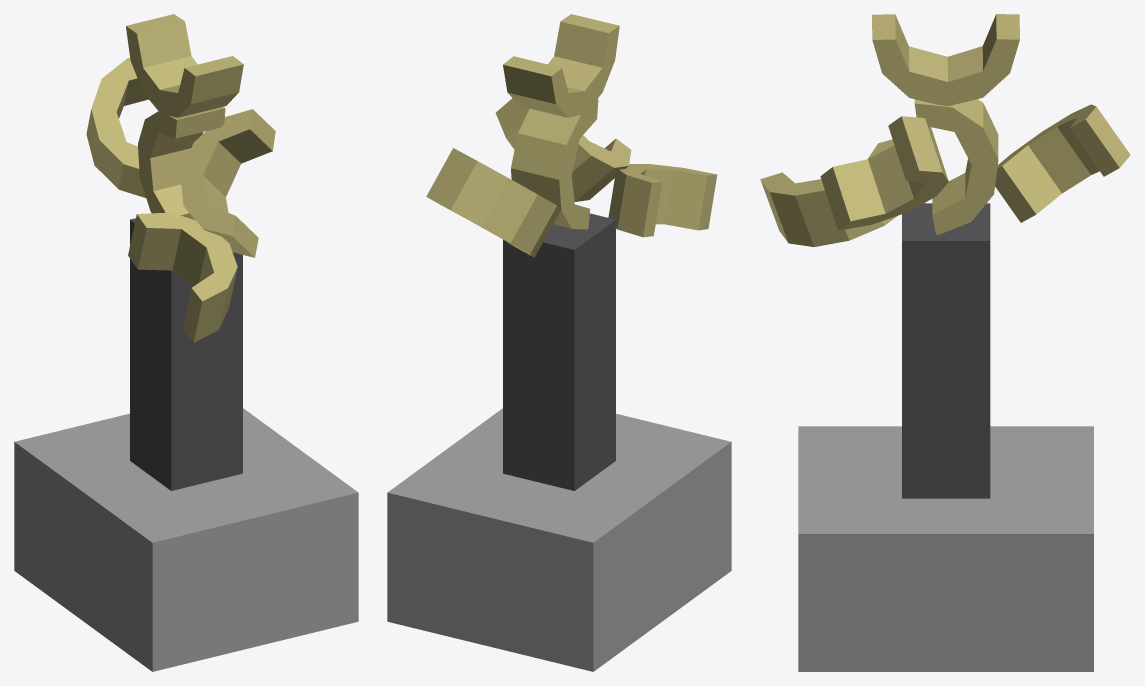
Rendered from Escultura1.fbx.
The picture shows the model from 3 angles, left to right: view 1: azimuth 30°, elevation 25°; view 2: azimuth 150°, elevation 25°; view 3: azimuth 270°, elevation 25°; orthographic projection. The views are drawn at different scales.
Visible parts, largest first — view 1: Cube, Cube.001, Cylinder.004, Cylinder.001, Cylinder.003, Cylinder, Cylinder.002; view 2: Cube, Cube.001, Cylinder.001, Cylinder.002, Cylinder.004, Cylinder, Cylinder.003; view 3: Cube, Cube.001, Cylinder.003, Cylinder.002, Cylinder.001, Cylinder, Cylinder.004.
Part boxes in pixels (box(x1,y1,x2,y2)): Cube: box(14, 408, 358, 671); Cube.001: box(130, 218, 242, 490); Cylinder.004: box(128, 212, 237, 342); Cylinder.001: box(126, 14, 243, 117); Cylinder.003: box(180, 109, 275, 257); Cylinder: box(138, 107, 225, 219); Cylinder.002: box(86, 57, 148, 197); Cube: box(387, 408, 731, 671); Cube.001: box(503, 213, 615, 490); Cylinder.001: box(503, 14, 619, 117); Cylinder.002: box(426, 148, 561, 257); Cylinder.004: box(608, 164, 717, 237); Cylinder: box(511, 98, 598, 229); Cylinder.003: box(495, 98, 631, 201); Cube: box(798, 426, 1093, 671); Cube.001: box(902, 203, 990, 498); Cylinder.003: box(820, 116, 948, 230); Cylinder.002: box(995, 104, 1130, 222); Cylinder.001: box(872, 14, 1019, 105); Cylinder: box(914, 99, 998, 234); Cylinder.004: box(760, 139, 896, 246).
Size of the model in its own units: 445 by 1139 by 648.
